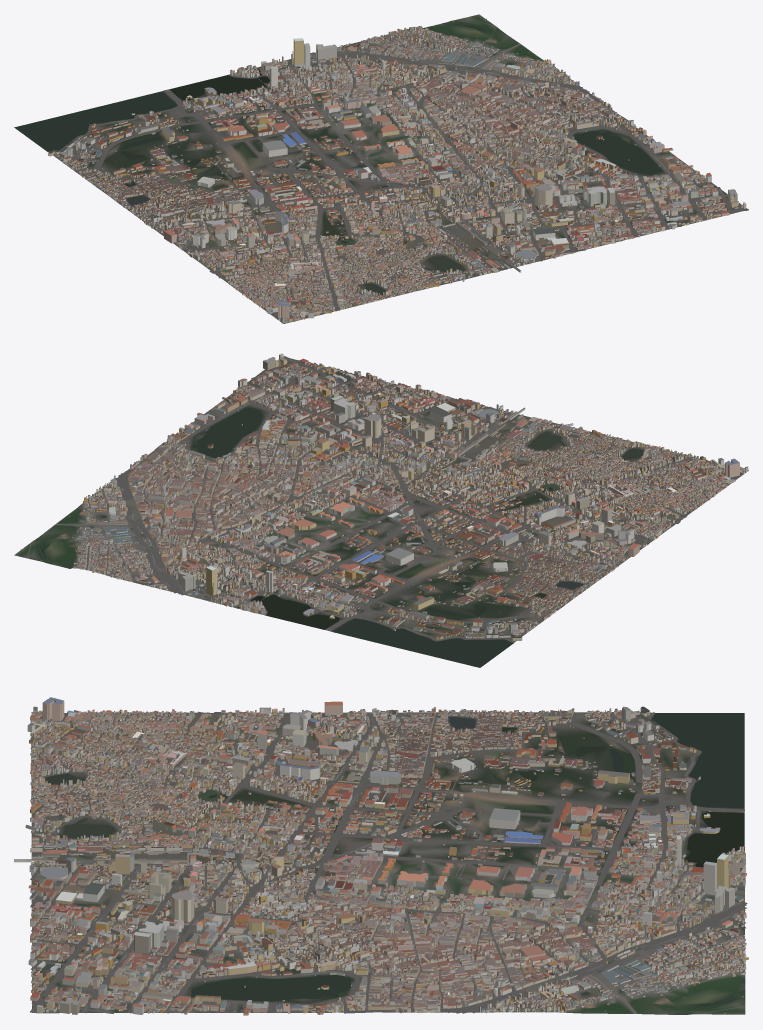
The picture shows the model from 3 angles, top to bottom: view 1: azimuth 30°, elevation 25°; view 2: azimuth 150°, elevation 25°; view 3: azimuth 270°, elevation 25°; orthographic projection. The views are drawn at different scales.
Visible parts, largest first — view 1: buildings, ground, roads, water; view 2: buildings, ground, roads, water; view 3: buildings, ground, roads, water.
Boxes of the visible parts, bbox=[...] form: buildings: bbox=[48, 18, 746, 323]; ground: bbox=[14, 14, 748, 323]; roads: bbox=[48, 17, 748, 311]; water: bbox=[14, 22, 661, 295]; buildings: bbox=[20, 353, 748, 640]; ground: bbox=[14, 358, 748, 667]; roads: bbox=[27, 356, 696, 642]; water: bbox=[36, 407, 643, 667]; buildings: bbox=[14, 697, 748, 1015]; ground: bbox=[31, 712, 745, 1014]; roads: bbox=[30, 711, 747, 1014]; water: bbox=[45, 713, 744, 1014].
Bounding box in the file's own units: 2849 × 159 × 2889.
